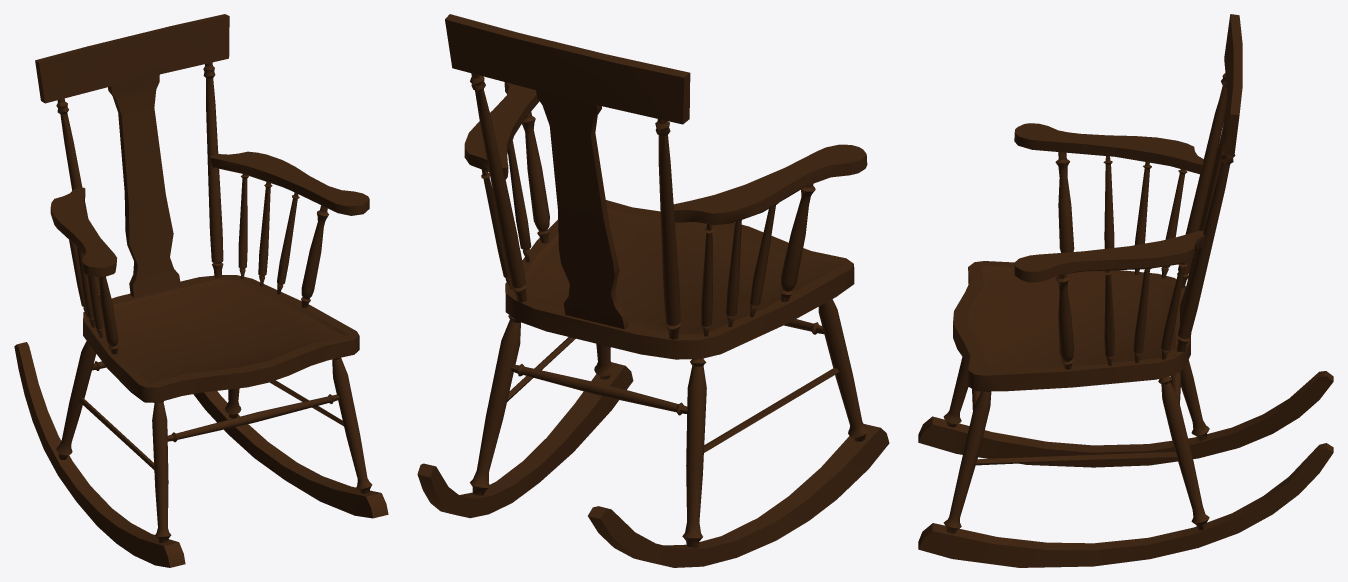
File: Rockingchair_01.fbx
The picture shows the model from 3 angles, left to right: view 1: azimuth 30°, elevation 25°; view 2: azimuth 150°, elevation 25°; view 3: azimuth 270°, elevation 25°; orthographic projection. The views are drawn at different scales.
Visible parts, largest first — view 1: Rockingchair_01; view 2: Rockingchair_01; view 3: Rockingchair_01.
Boxes of the visible parts, bbox=[...] form: Rockingchair_01: bbox=[14, 14, 388, 567]; Rockingchair_01: bbox=[417, 14, 889, 567]; Rockingchair_01: bbox=[918, 14, 1333, 567].
Bounding box in the file's own units: 0.7074 × 0.9945 × 0.8337.
